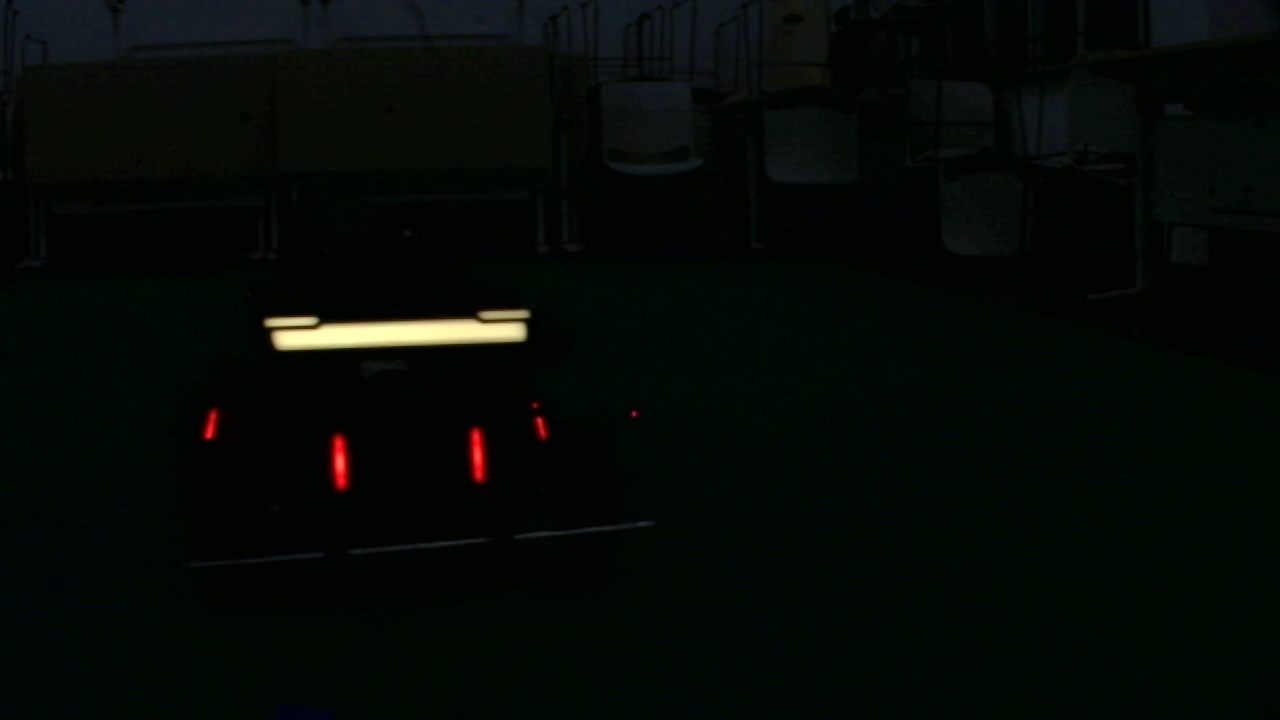lamp: (330, 425, 352, 487), (468, 426, 489, 489)
pair1: (331, 426, 484, 489)
